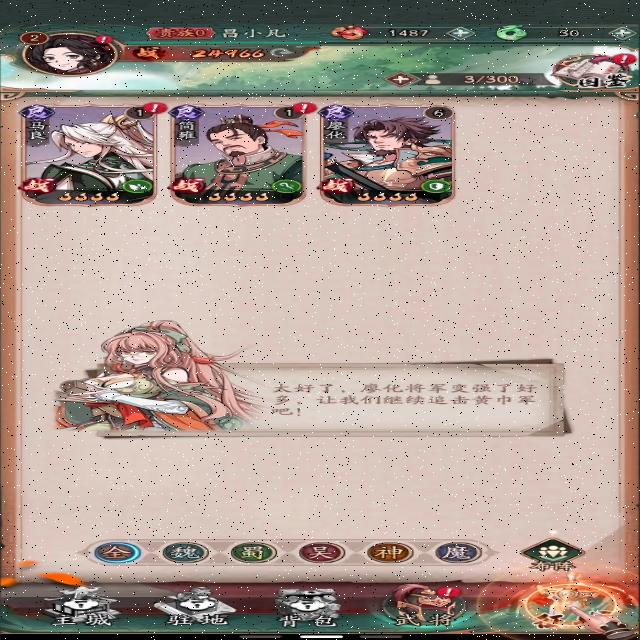hint-guide: (70, 316, 582, 442), (496, 575, 634, 636)
hint-reddot: (138, 96, 177, 114), (290, 97, 323, 114), (435, 584, 466, 601), (88, 32, 120, 46), (608, 52, 637, 66)
navigation-fight: (488, 573, 638, 634)
navigation-hero: (369, 579, 479, 629)
navigation-myHeroes: (12, 100, 163, 210), (320, 103, 470, 209), (171, 100, 314, 211)
navigation-role: (11, 28, 127, 77)
navigation-station-off: (138, 584, 256, 631)
operation-camp: (426, 538, 491, 565), (224, 538, 282, 564), (357, 540, 418, 564), (155, 539, 211, 564), (88, 541, 143, 565), (297, 540, 349, 565)
operation-deployment: (516, 535, 588, 572)
operation-gallery: (545, 49, 640, 92)
